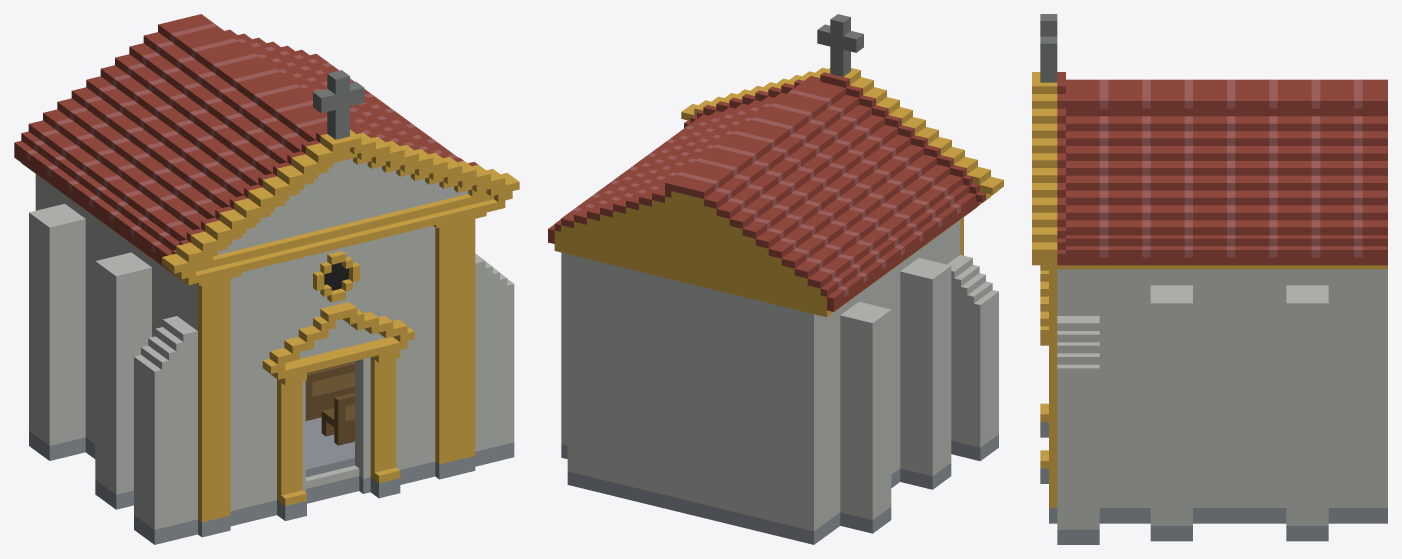
Rendered from 210515guia-4.obj.
3 views of the same model, side by side, from view 1: azimuth 30°, elevation 25°; view 2: azimuth 150°, elevation 25°; view 3: azimuth 270°, elevation 25° (orthographic). The views are drawn at different scales.
Size of the model in its own units: 5 by 5.7 by 4.2.
1 material, 1 textured.
